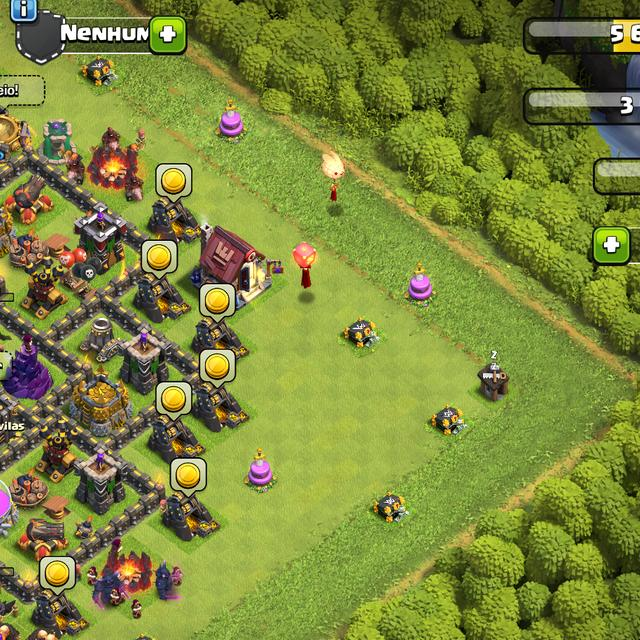coin: (167, 457, 208, 498), (154, 162, 192, 205), (197, 348, 237, 388), (199, 282, 237, 324), (40, 556, 77, 597), (140, 240, 179, 278), (156, 381, 192, 422)
